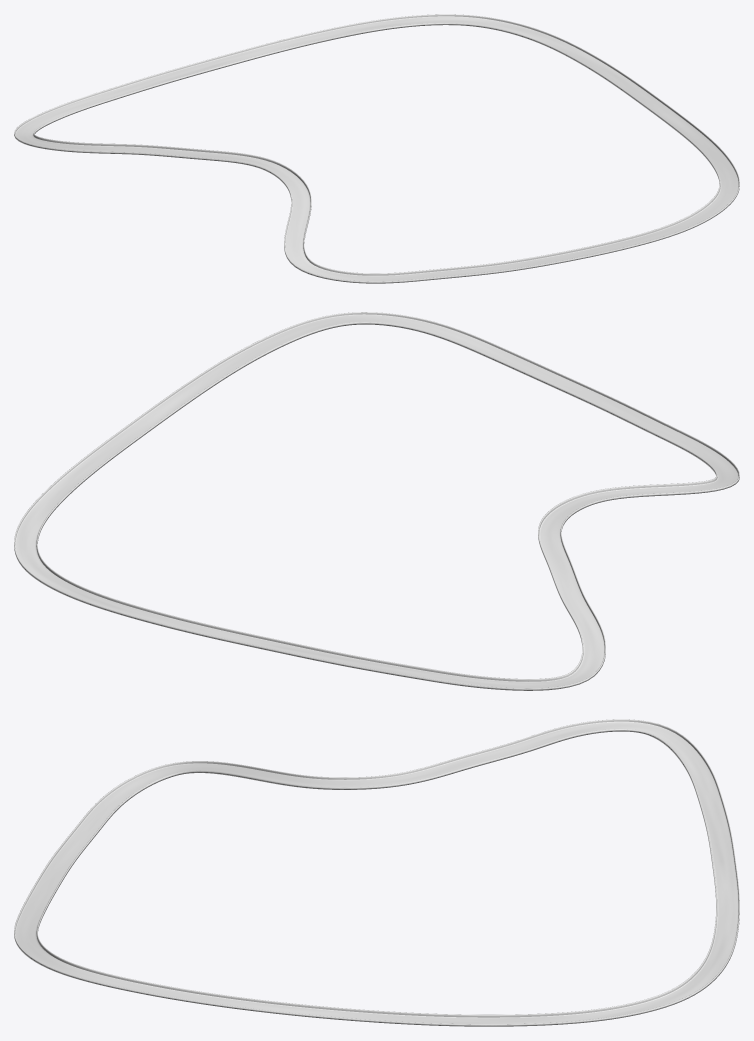
File: RingMap_walls.fbx
3 views of the same model, one above another, from view 1: azimuth 30°, elevation 25°; view 2: azimuth 150°, elevation 25°; view 3: azimuth 270°, elevation 25° (orthographic). The views are drawn at different scales.
Parts seen in each view (by area): view 1: loftedSurface7; view 2: loftedSurface7; view 3: loftedSurface7.
Boxes of the visible parts, x1=… form: loftedSurface7: x1=14, y1=14, x2=739, y2=283; loftedSurface7: x1=14, y1=312, x2=739, y2=690; loftedSurface7: x1=14, y1=719, x2=739, y2=1026.
Size of the model in its own units: 1569 by 77.32 by 1607.
1 material, 1 textured.
